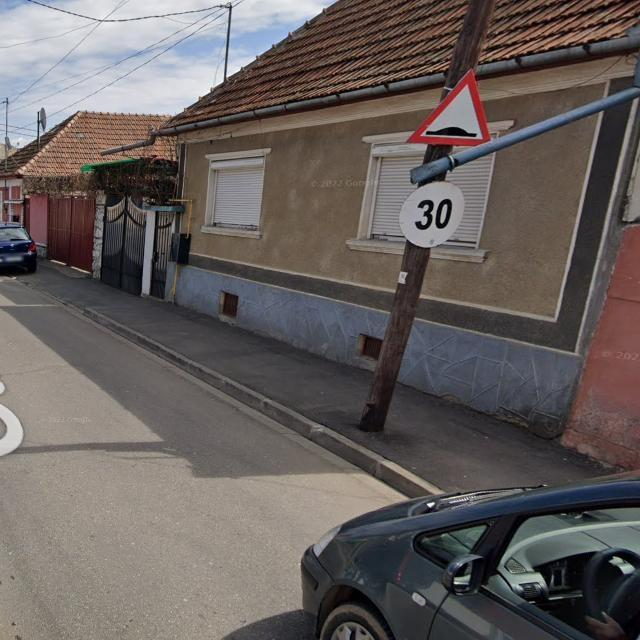forb_speed_over_30: (399, 180, 465, 248)
